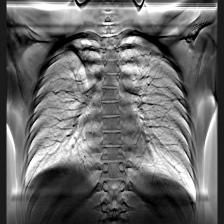tuberculosis: (15, 25, 204, 224)
